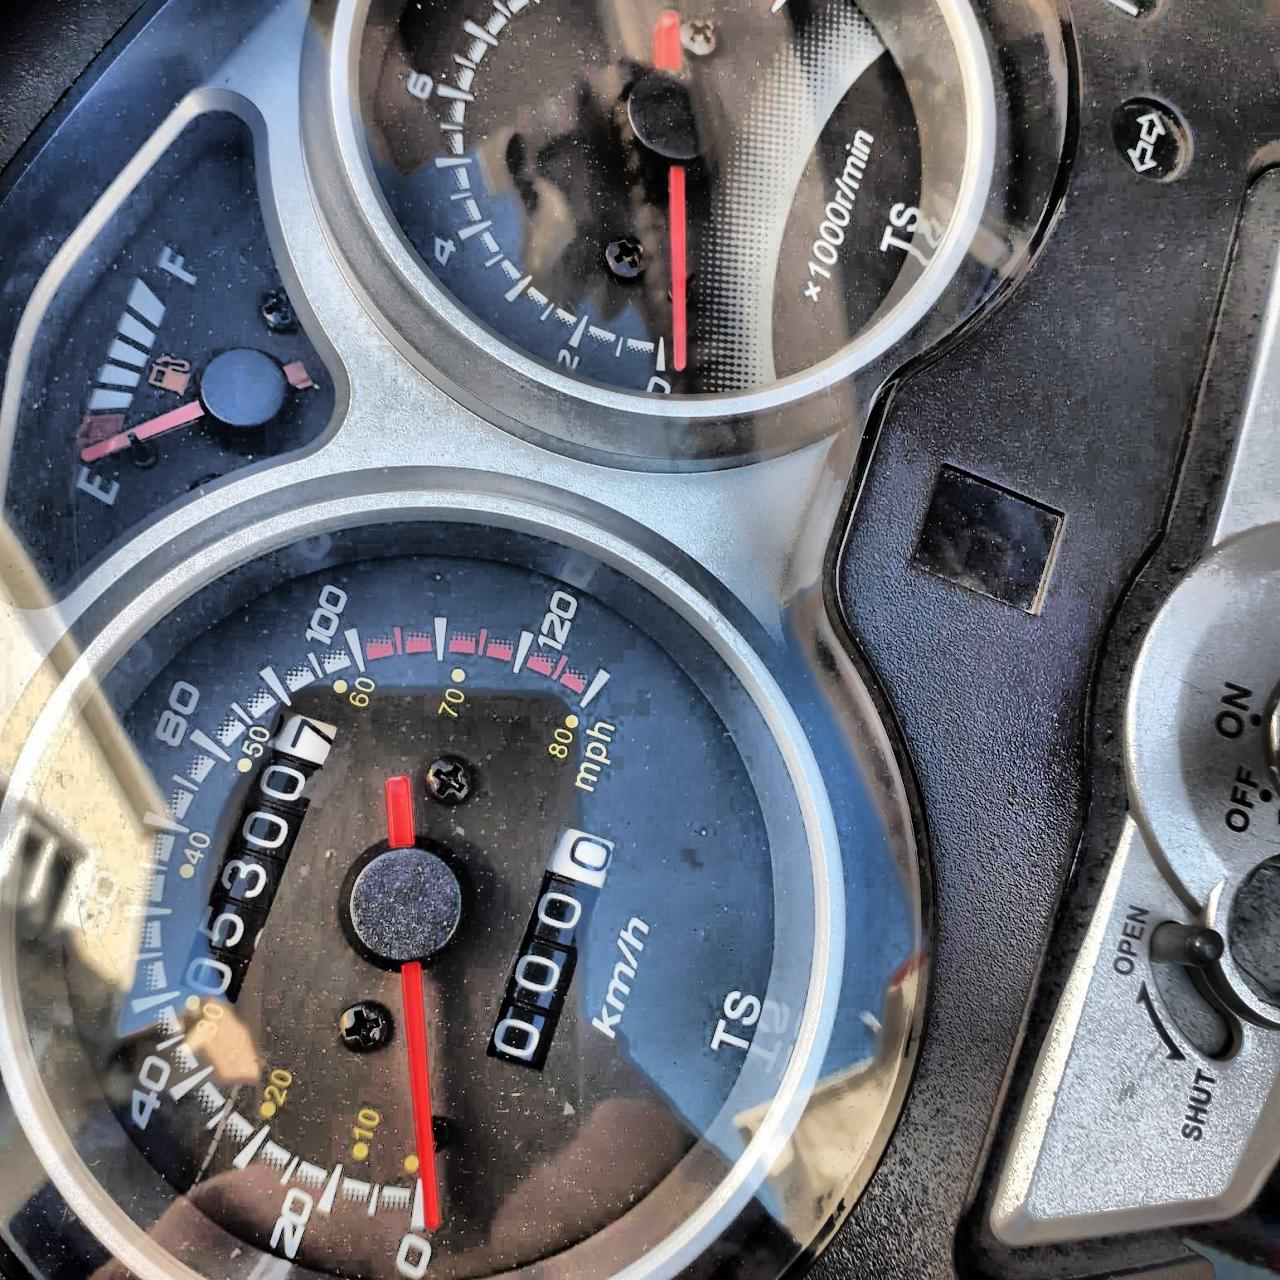0: (183, 955, 232, 995), (240, 810, 288, 847), (258, 763, 306, 801), (189, 831, 210, 849), (247, 724, 270, 741)
3: (219, 857, 267, 898)
4: (183, 847, 204, 865)
5: (197, 904, 245, 947), (240, 740, 264, 757)
7: (290, 719, 335, 748)
odometer: (177, 707, 340, 1005)
